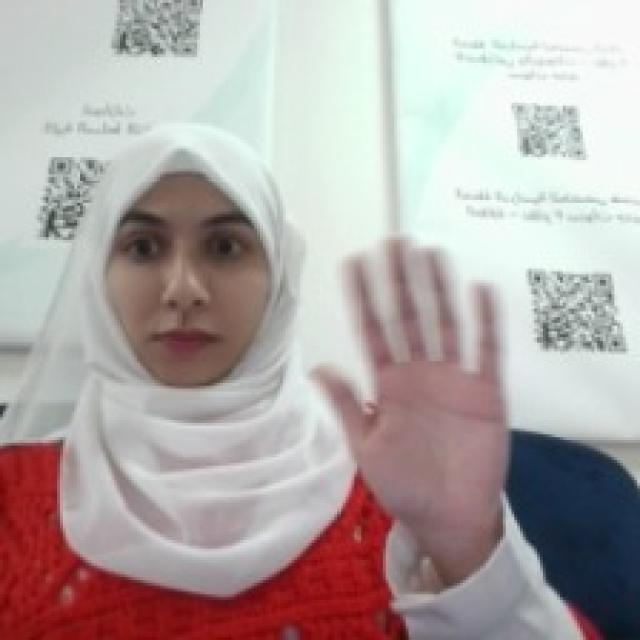Hello: (303, 220, 511, 526)
